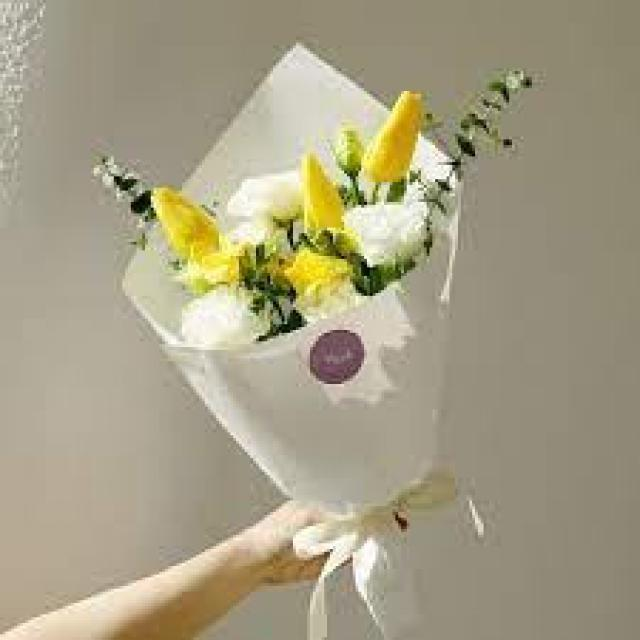freesia: (361, 80, 432, 185)
